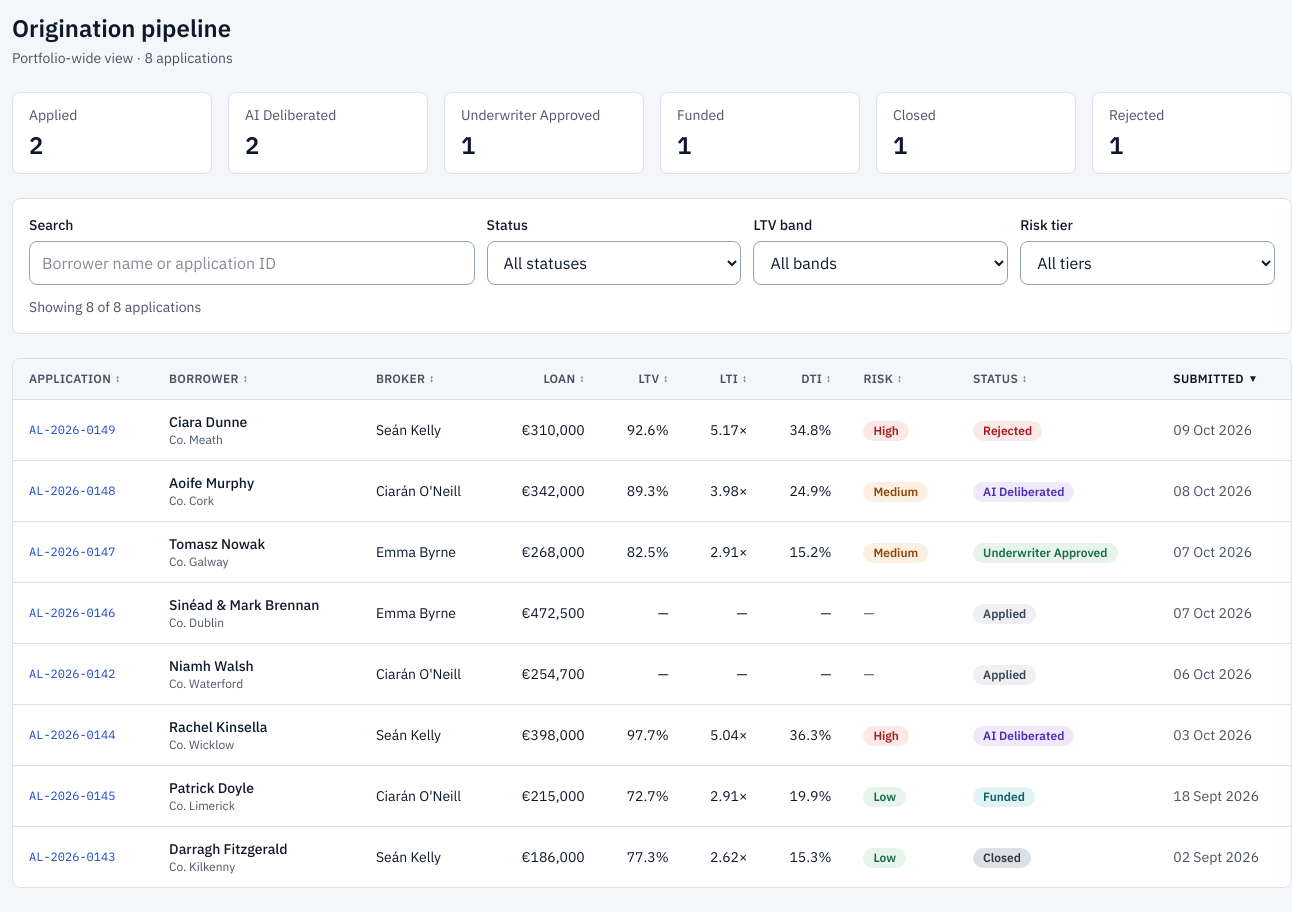
it: PipelinePage › sorts by a column and reverses on a second click (WEB-23)
expect the text "Tomasz Nowak" is shown: met, box left=169, top=535, right=265, bottom=553
Click the button "Loan ↕" at (564, 379), box left=544, top=371, right=585, bottom=387
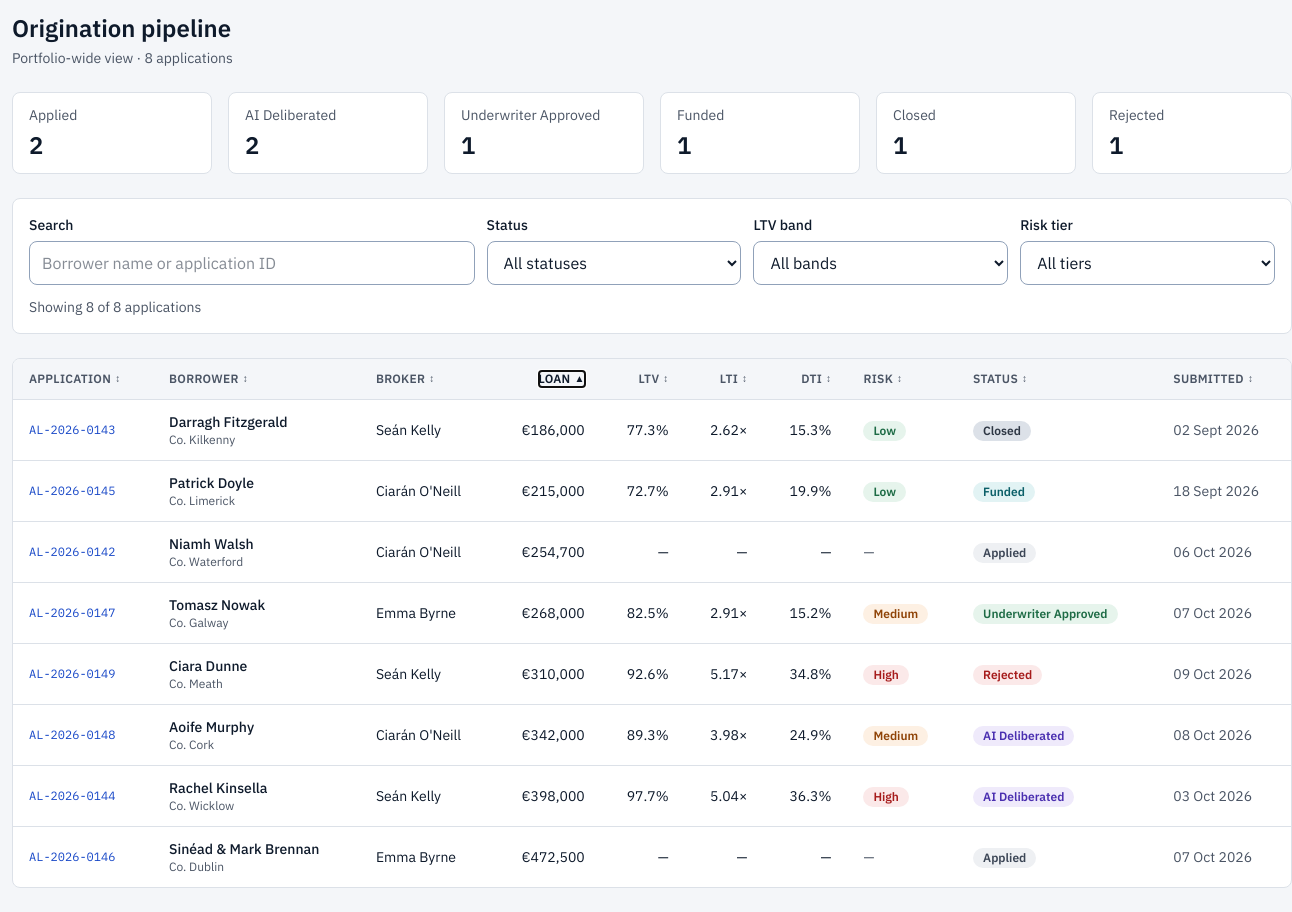
expect the text "Darragh Fitzgerald" is shown: met, box left=169, top=413, right=288, bottom=431
expect the column heading "Loan" has attribute aria-sort="ascending": met, box left=493, top=359, right=601, bottom=400
Click the button "Loan ▲" at (562, 379), box left=539, top=371, right=585, bottom=387
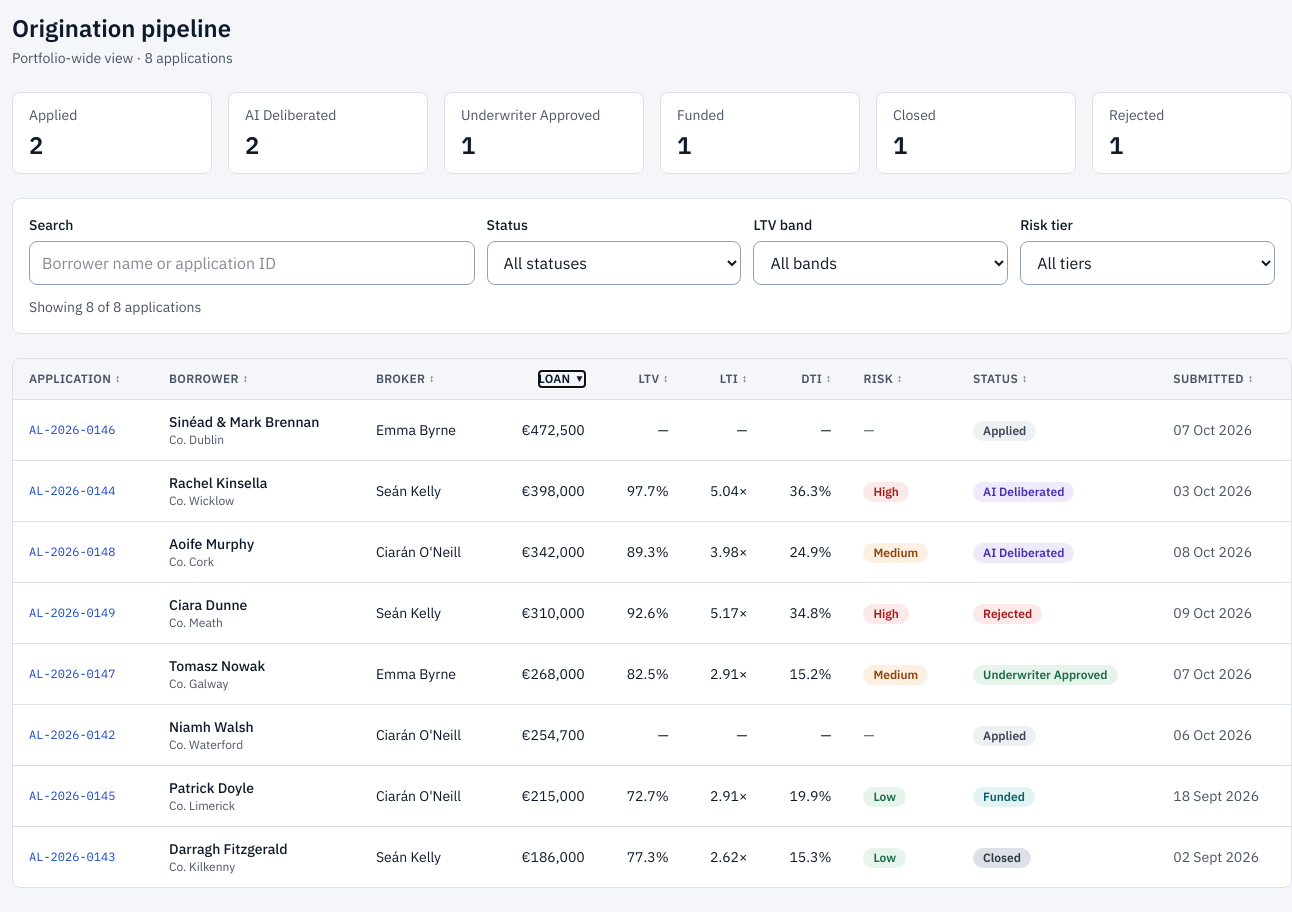
expect the text "Sinéad & Mark Brennan" is shown: met, box left=169, top=412, right=344, bottom=432
expect the column heading "Loan" has attribute aria-sort="descending": met, box left=493, top=359, right=601, bottom=400
